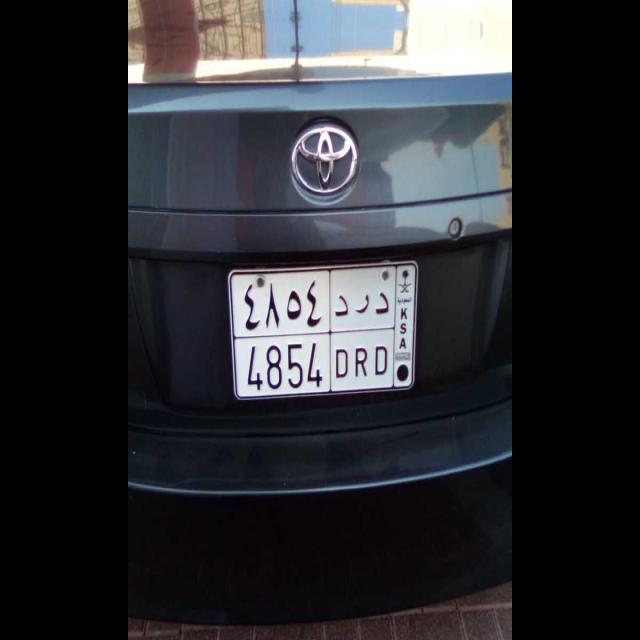license_plate: (237, 329, 397, 396)
